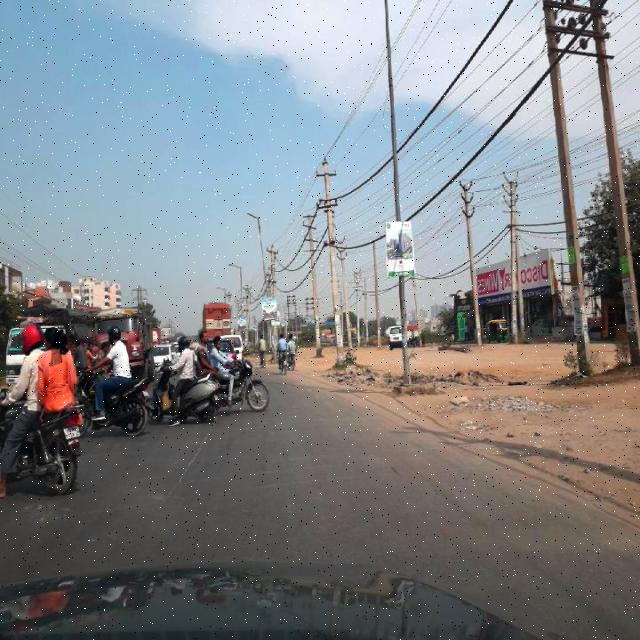D01: (180, 424, 212, 491)
